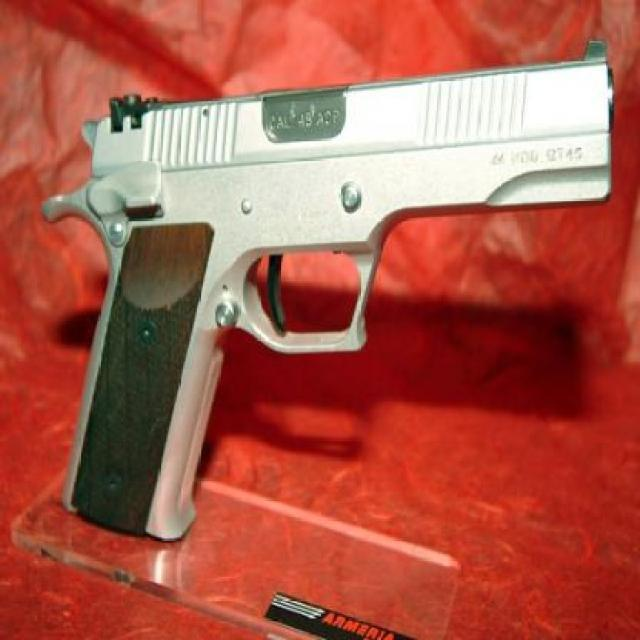gun: (51, 47, 614, 560)
